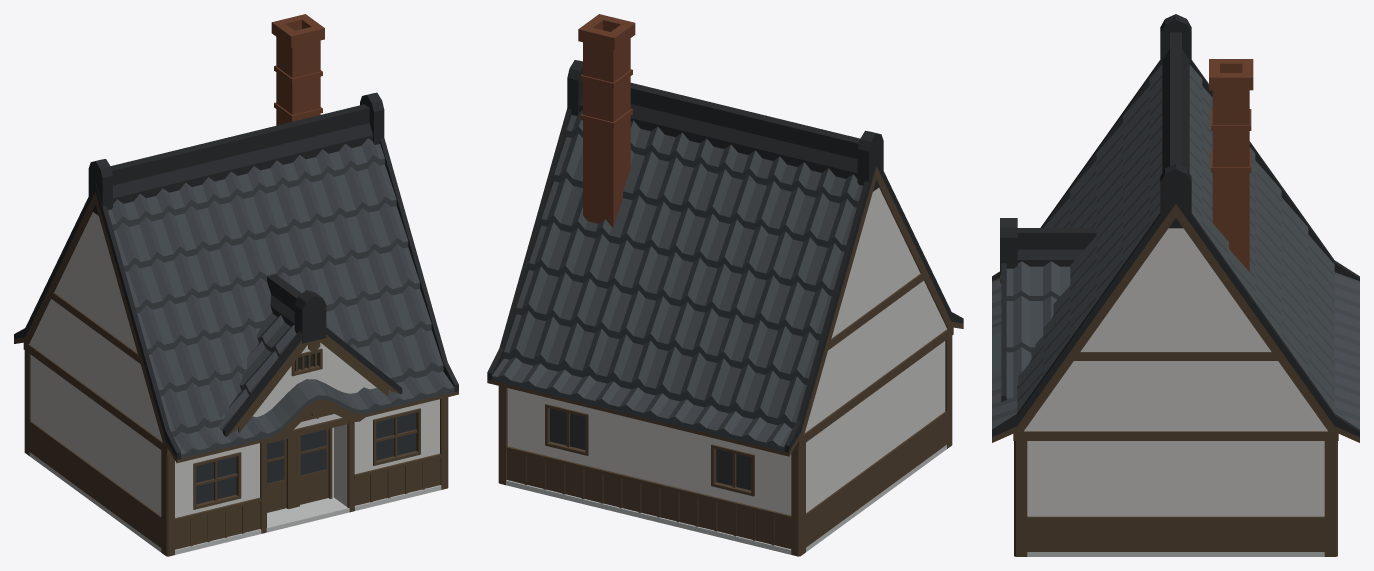
File: bathhouse-4ac41a.glb
3 renders of one model, left to right at view 1: azimuth 30°, elevation 25°; view 2: azimuth 150°, elevation 25°; view 3: azimuth 270°, elevation 25°, orthographic. The views are drawn at different scales.
Visible parts, largest first — view 1: bathhouse-shell, door-r-leaf, door-l-leaf; view 2: bathhouse-shell; view 3: bathhouse-shell.
Part boxes in pixels (left/top/right/bottom): bathhouse-shell: left=14, top=14, right=458, bottom=556; door-r-leaf: left=300, top=429, right=328, bottom=504; door-l-leaf: left=267, top=439, right=286, bottom=512; bathhouse-shell: left=487, top=14, right=963, bottom=556; bathhouse-shell: left=992, top=14, right=1359, bottom=556.
Bounding box in the file's own units: 8 × 11 × 8.
